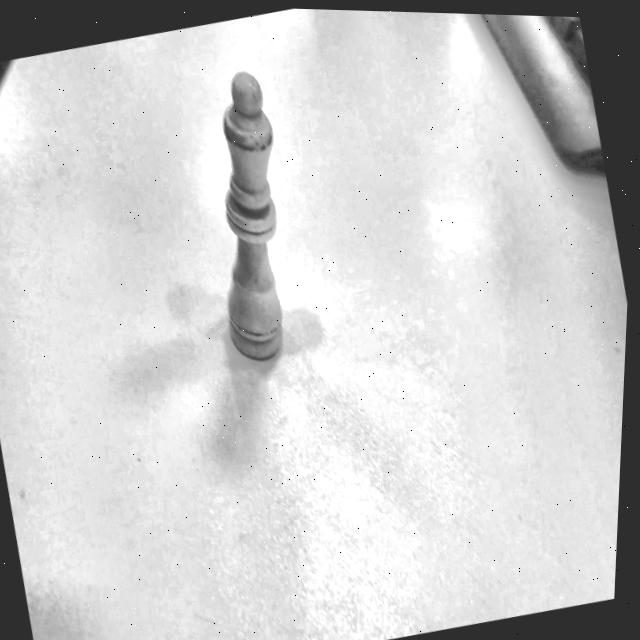white-queen: (167, 35, 335, 398)
